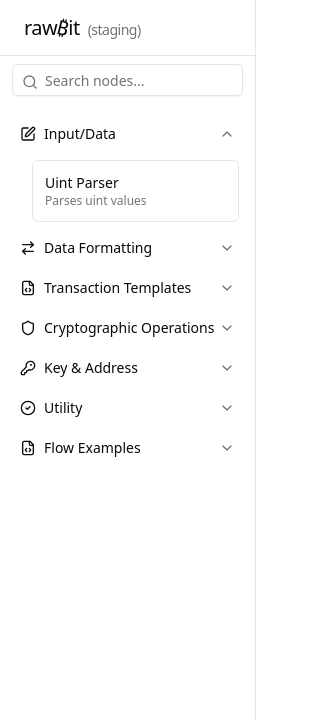
Sidebar › supports typo-tolerant search results
In the field with placeholder "Search nodes...": (128, 80) [12,64,243,96], type "un"
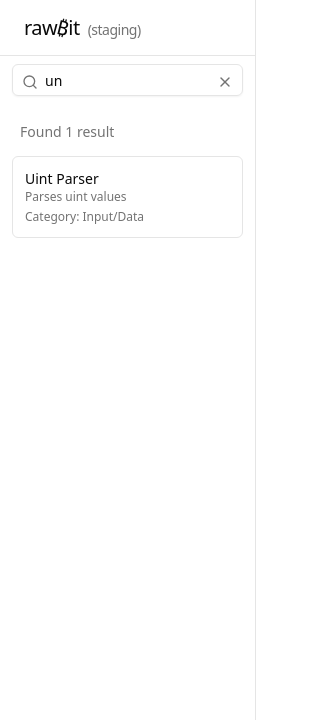
Expected: the text "Uint Parser" is shown, [25,169,99,188]
Now the text "Found 1 result" is shown, box [20,122,114,141]
